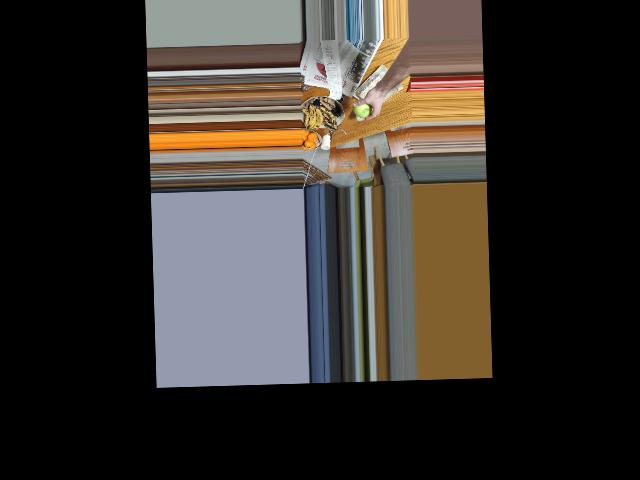apple: (352, 98, 373, 120)
